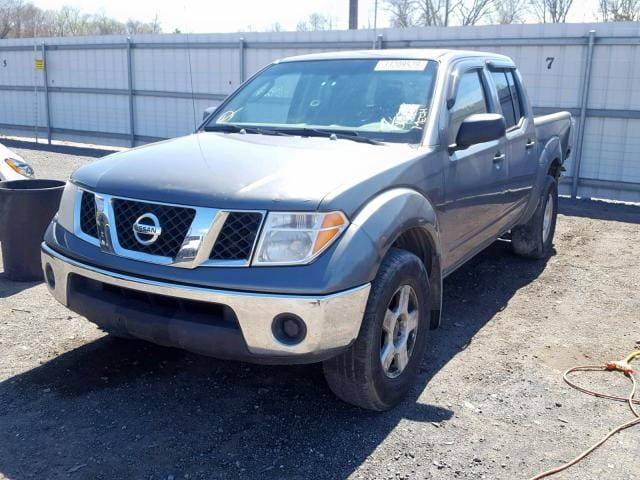pickup: (47, 52, 582, 412)
